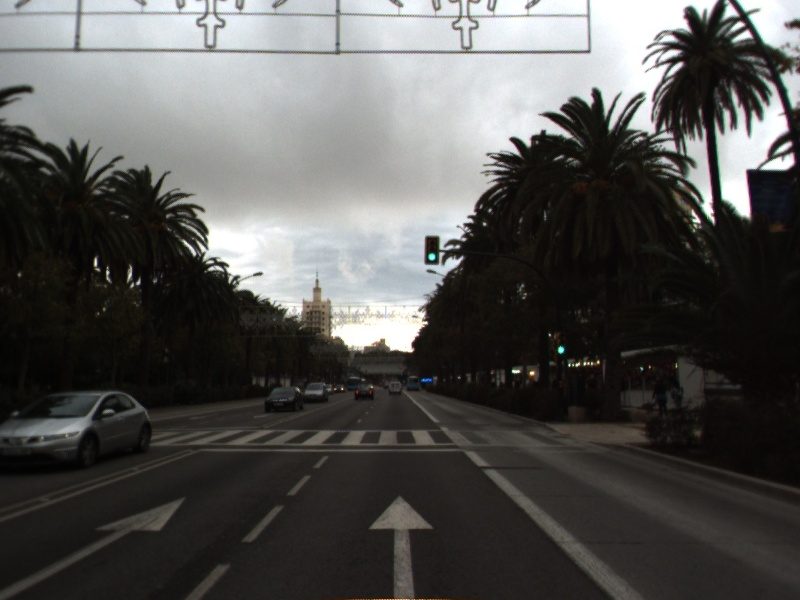STRAIGHT: (1, 494, 189, 600), (366, 492, 436, 600)
